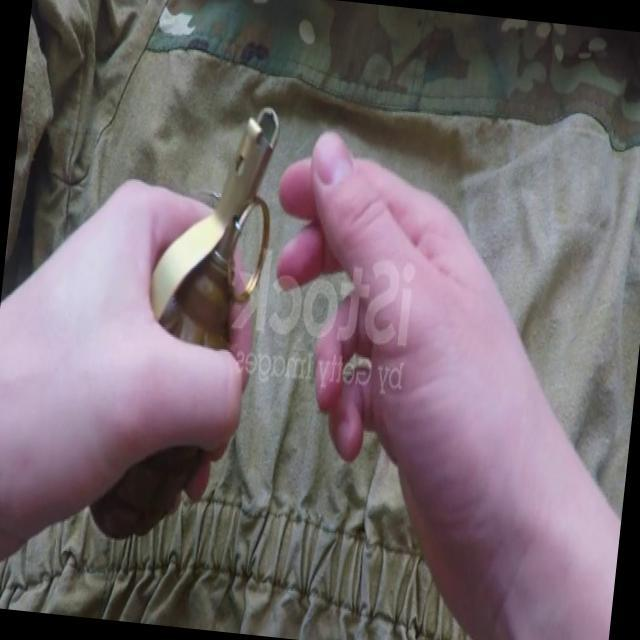grenade: (82, 95, 278, 552)
